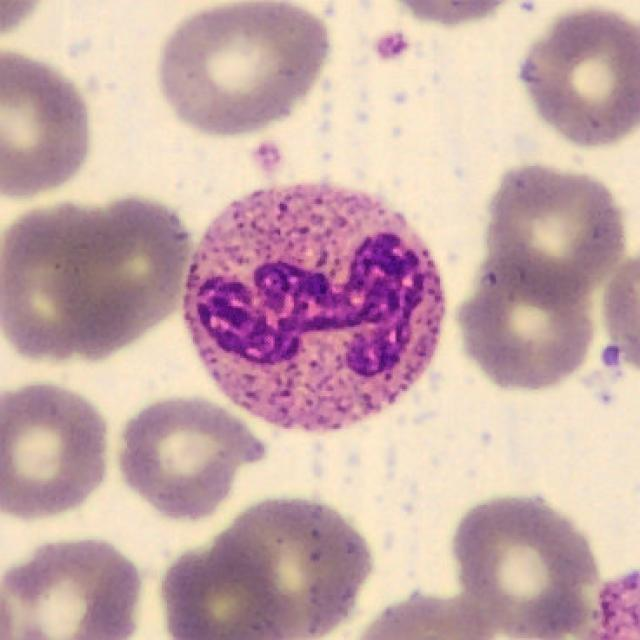Neutrofilo segmentado: (183, 183, 447, 434)
